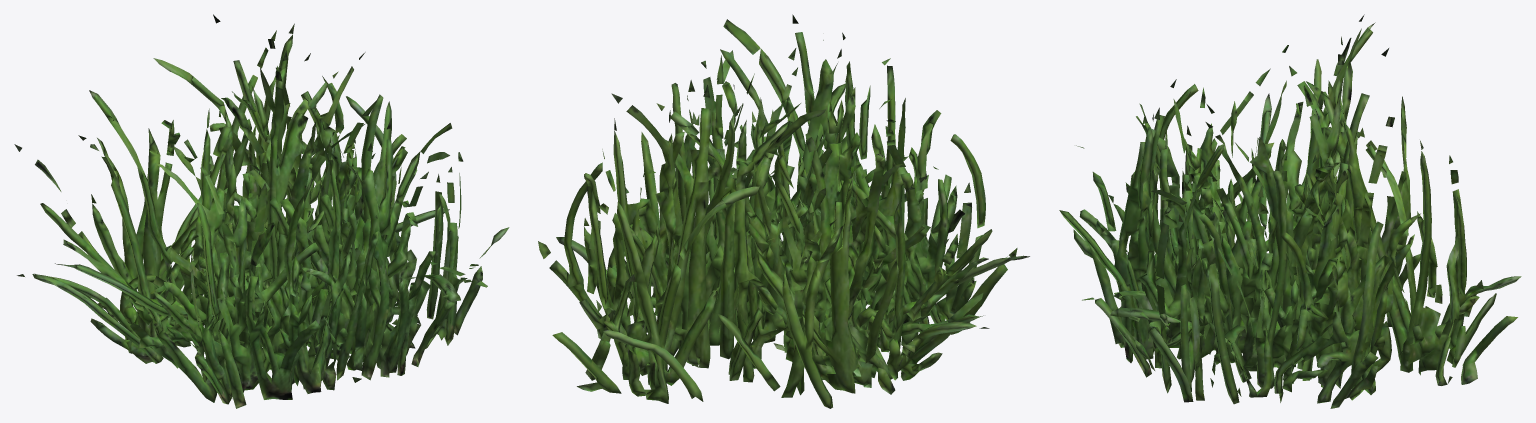
The model's file is Grass.fbx.
The picture shows the model from 3 angles, left to right: view 1: azimuth 30°, elevation 25°; view 2: azimuth 150°, elevation 25°; view 3: azimuth 270°, elevation 25°; orthographic projection. The views are drawn at different scales.
Visible parts, largest first — view 1: Mesh1_Mesh1.222; view 2: Mesh1_Mesh1.222; view 3: Mesh1_Mesh1.222.
Boxes of the visible parts, x1,y1,x2,y2 form: Mesh1_Mesh1.222: [14, 14, 509, 408]; Mesh1_Mesh1.222: [538, 14, 1029, 408]; Mesh1_Mesh1.222: [1059, 14, 1521, 408].
Bounding box in the file's own units: 193 × 126 × 182.
1 material, 1 textured.
